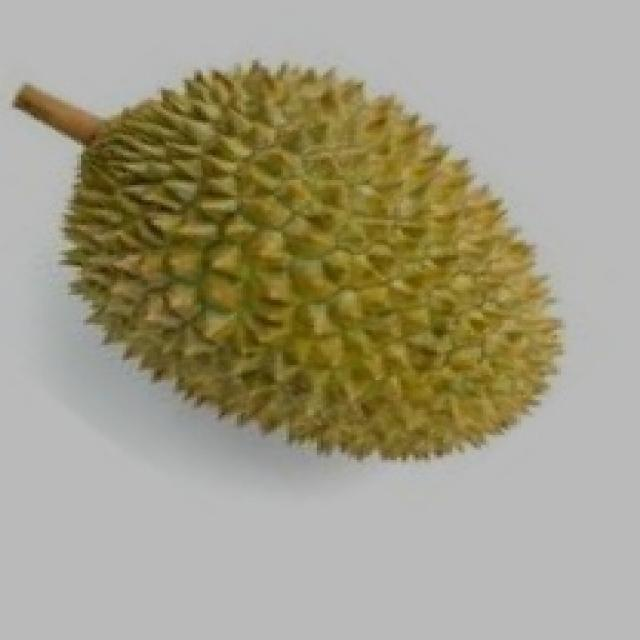fruit: (9, 13, 366, 505), (274, 158, 600, 512)
